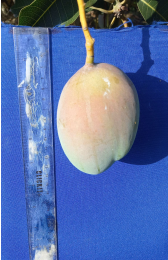Mango-sano: (57, 0, 139, 174)
